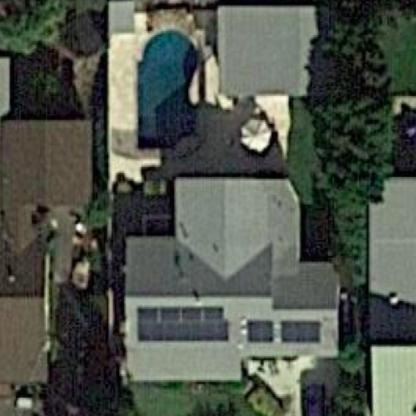solar_panel: (134, 297, 235, 349), (245, 312, 330, 352)
swimming_pool: (123, 18, 214, 160)
